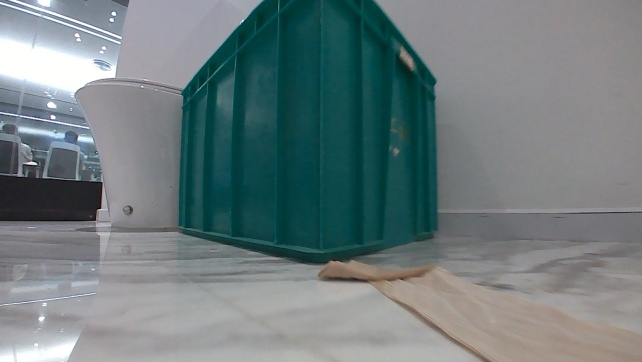socks: (316, 257, 640, 360)
toilet: (70, 75, 187, 230)
